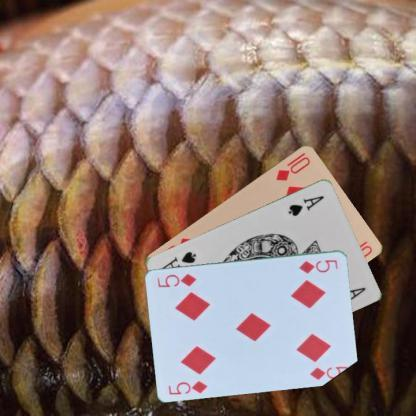10d: (274, 154, 312, 182)
5d: (296, 256, 340, 274), (166, 378, 209, 396)
As: (286, 192, 326, 218)
